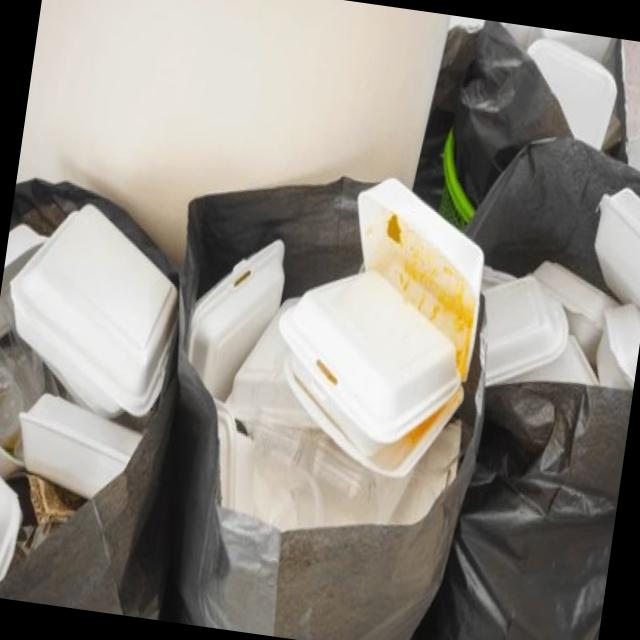electronic: (260, 260, 472, 462), (5, 198, 184, 421), (471, 20, 640, 164), (178, 225, 291, 408), (480, 249, 578, 396), (0, 435, 34, 599)
general: (450, 389, 630, 640)
